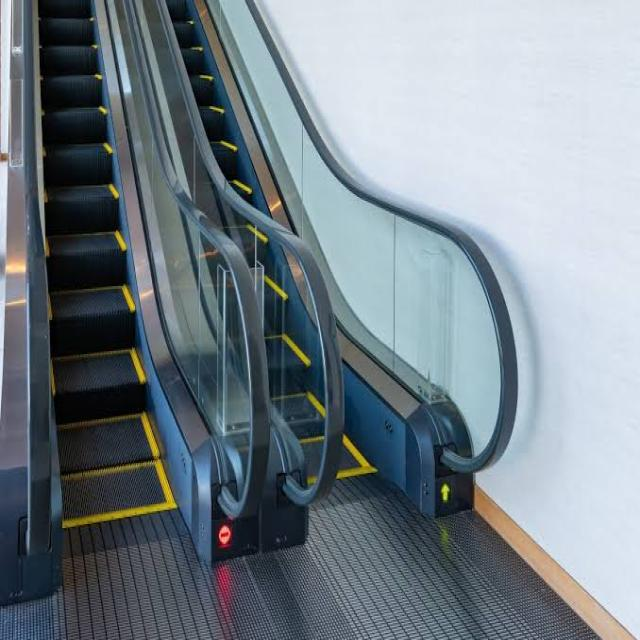escalator: (143, 0, 610, 639), (0, 0, 298, 639)
